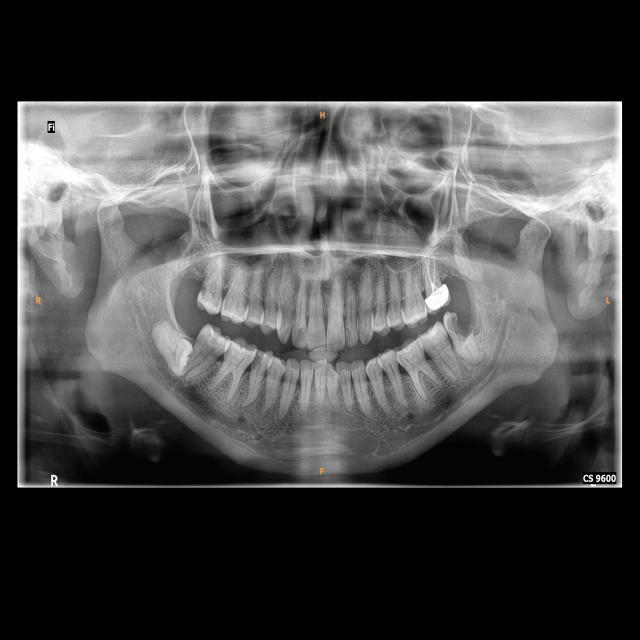dentin-curugu: (444, 312, 478, 341), (252, 354, 264, 372), (295, 328, 305, 344), (199, 284, 208, 299)
kanal-tedavisi: (422, 255, 438, 289)
kaplama: (423, 287, 451, 311)
